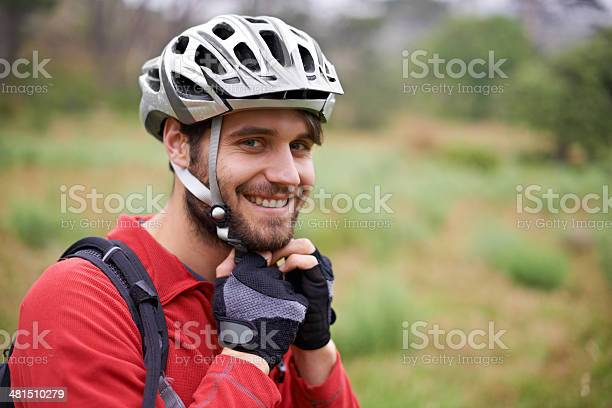helmet: (136, 14, 346, 254)
